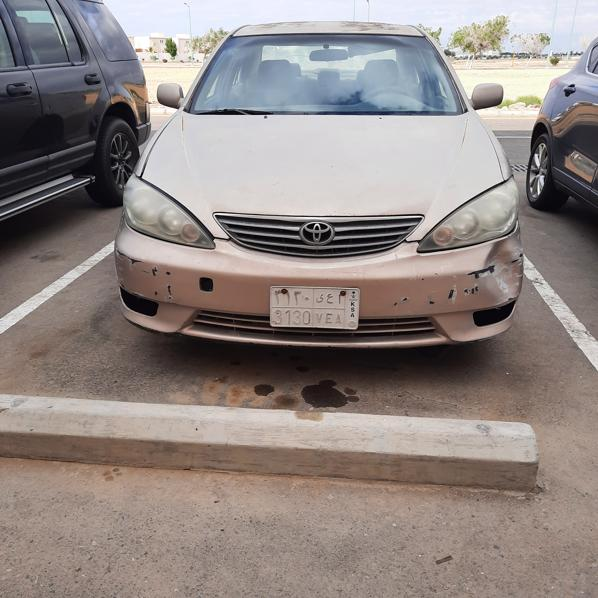numberplate: (270, 286, 359, 329)
